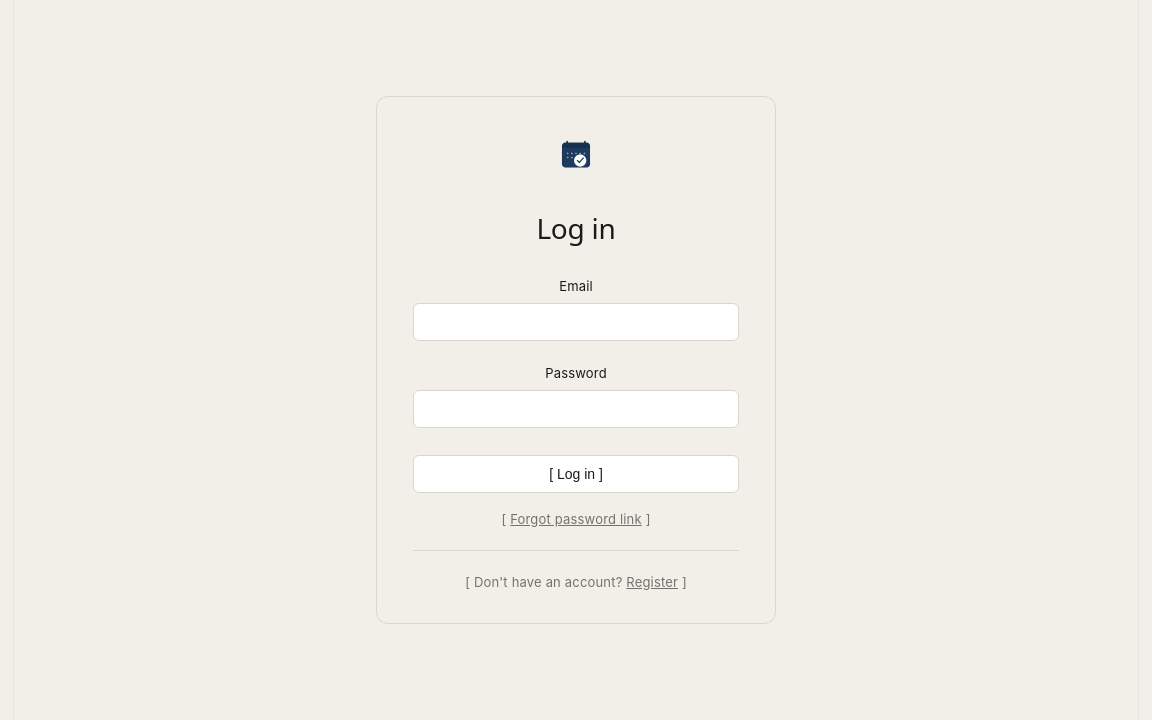
Test: Login Page › shows validation errors when submitting empty form
Click the button "[ Log in ]" at [576, 474], box [413,455,739,493]
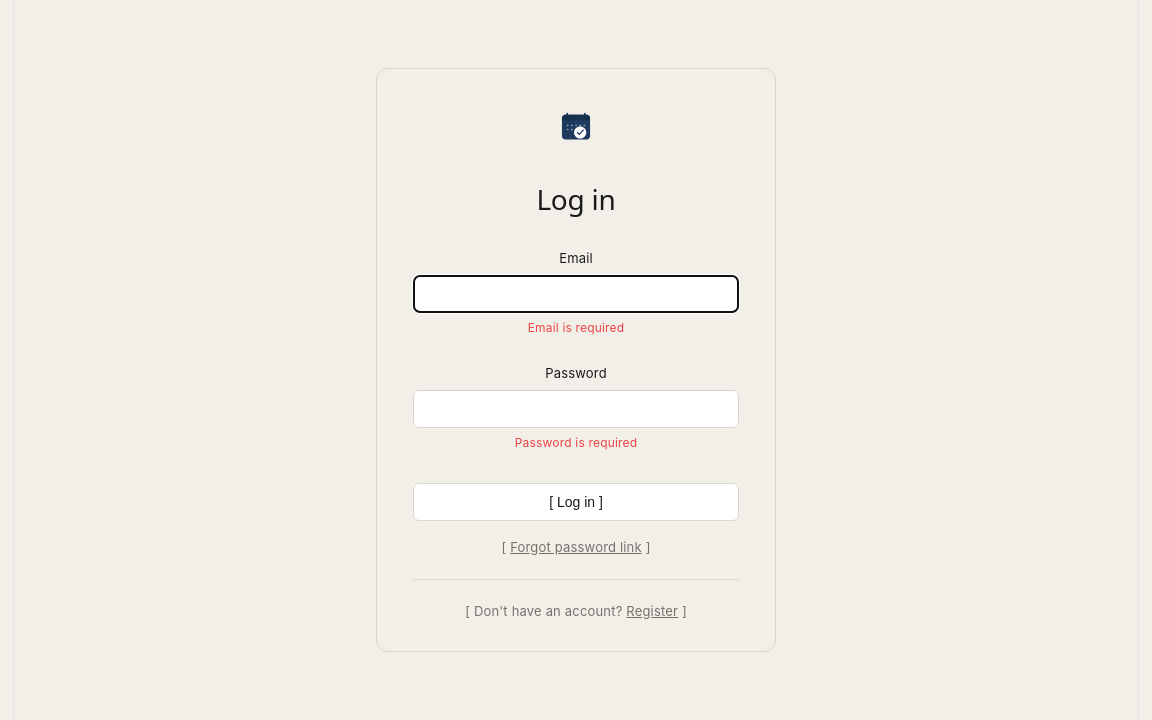
Check: the text "Email is required" is shown, box [528,320,624,335]
Check: the text "Password is required" is shown, box [515,435,637,450]
